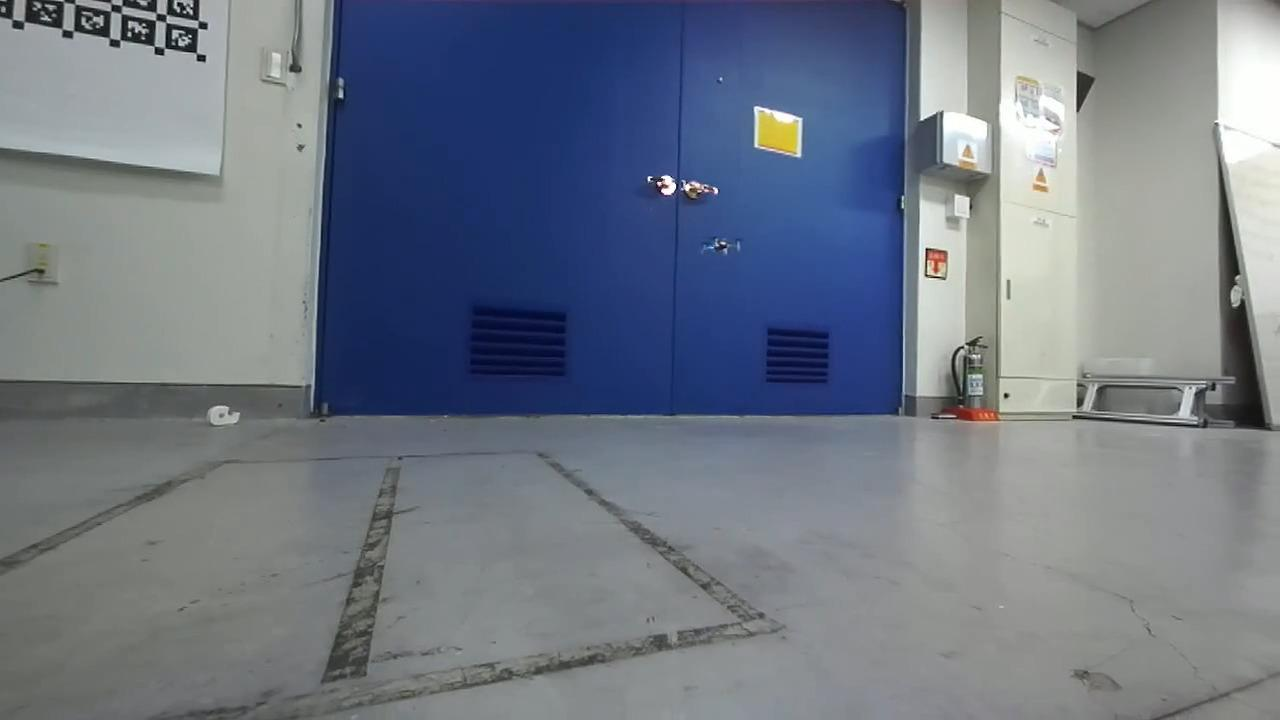crazyflie: (693, 231, 748, 261)
